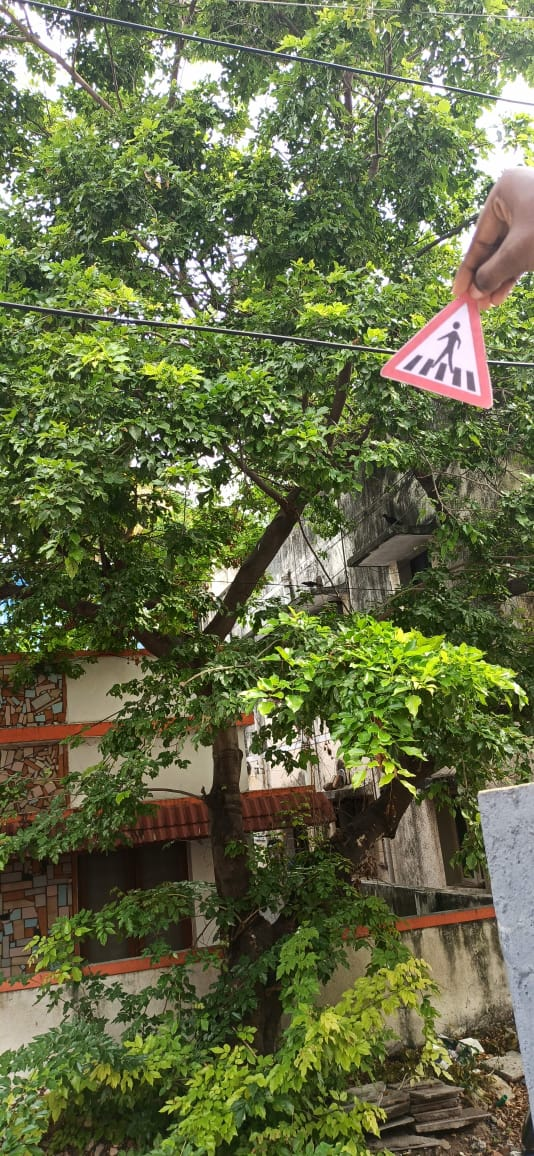PEDESTRIAN CROSSING: (380, 281, 499, 426)
